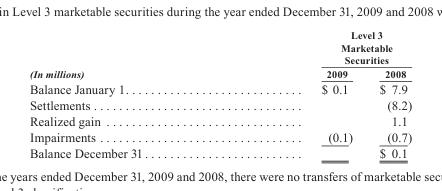table: (28, 29, 411, 160)
table column: (28, 29, 231, 160), (231, 29, 365, 160), (365, 29, 411, 160)
table column header: (28, 29, 411, 80)
table row: (28, 29, 411, 66), (28, 128, 411, 145), (28, 80, 411, 96), (28, 96, 411, 112), (28, 112, 411, 128), (28, 145, 411, 160), (28, 66, 411, 80)
table spanning cell: (28, 29, 231, 80), (231, 29, 411, 66)
